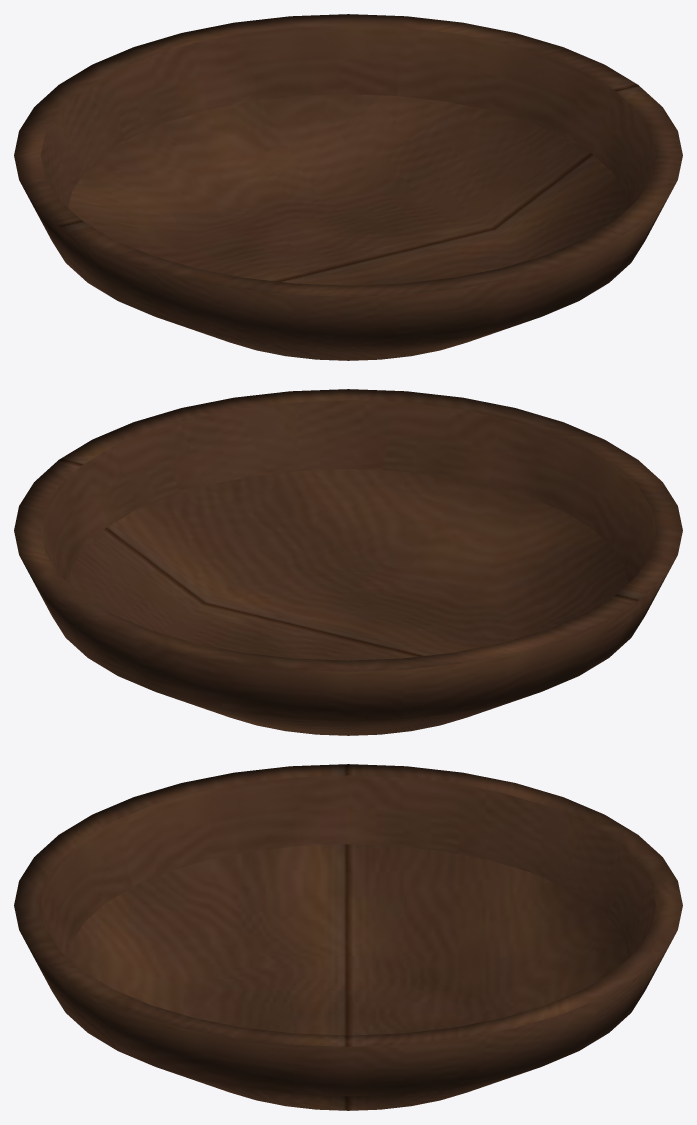
File: kitchen_bowl.glb
3 views of the same model, one above another, from view 1: azimuth 30°, elevation 25°; view 2: azimuth 150°, elevation 25°; view 3: azimuth 270°, elevation 25° (orthographic).
Parts seen in each view (by area): view 1: kitchen_bowl; view 2: kitchen_bowl; view 3: kitchen_bowl.
Part boxes in pixels (box(x1,y1,x2,y2)): kitchen_bowl: box(14, 14, 682, 360); kitchen_bowl: box(14, 389, 682, 735); kitchen_bowl: box(14, 764, 682, 1110).
Size of the model in its own units: 0.38 by 0.08 by 0.38.
1 material, 1 textured.
